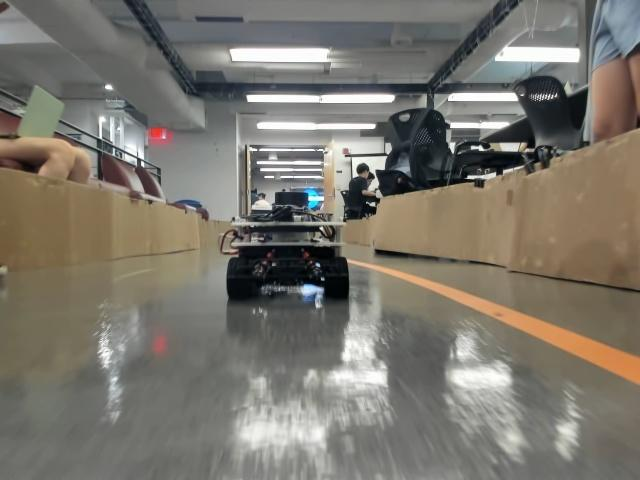Car: (225, 191, 349, 298)
